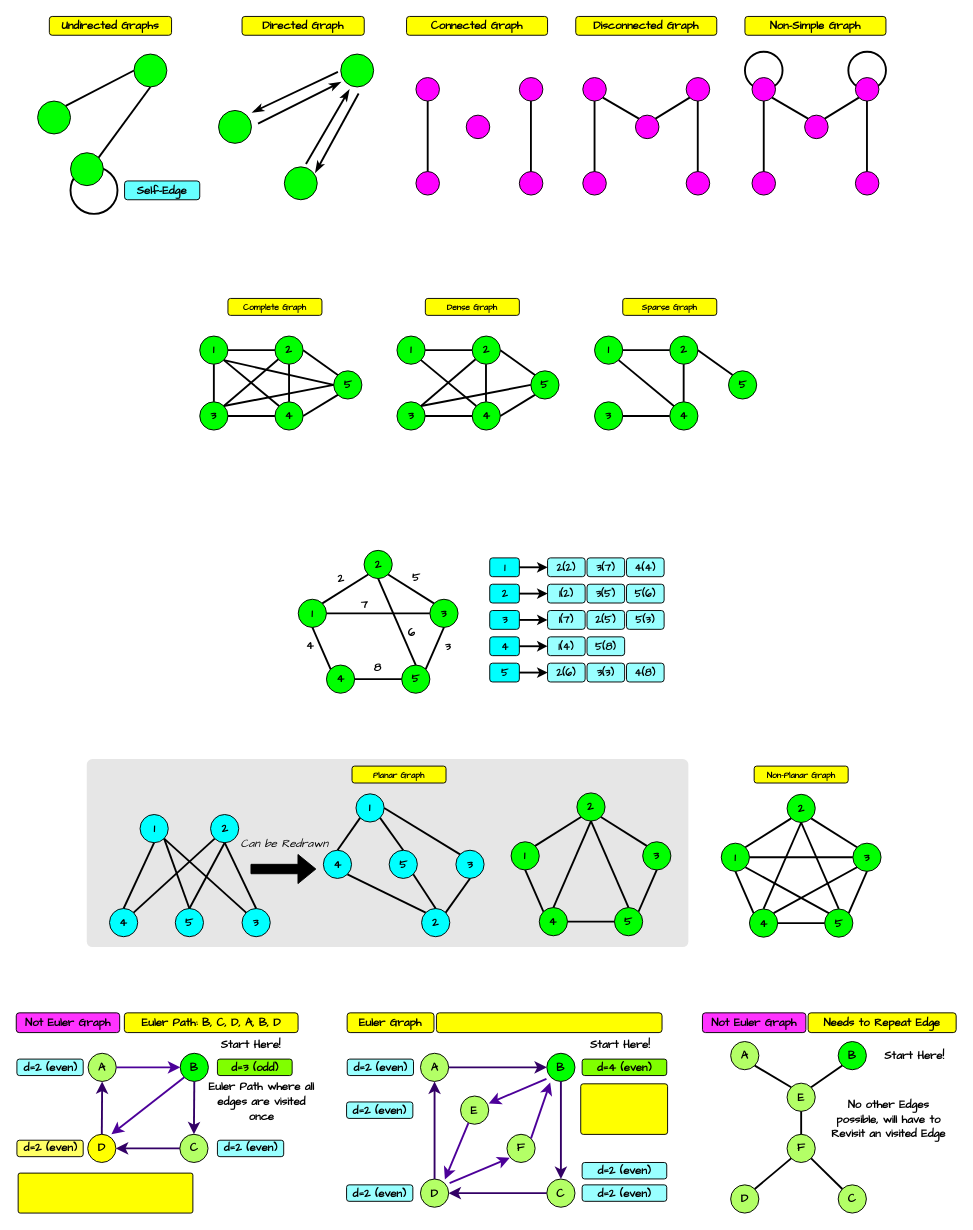
Image size: 973x1230. Some labels were removed from this diagram. The centre of each missing label's shape, as x and y in pixels:
Euler Circuit: Starts & Ends at Vertix B: (x=624, y=1108)
Euler Path: B, C, D, A, B, E, D, F, B: (x=549, y=1022)
Not a Euler Circuit! Ends at a Different Vertix than Start.: (x=105, y=1192)
